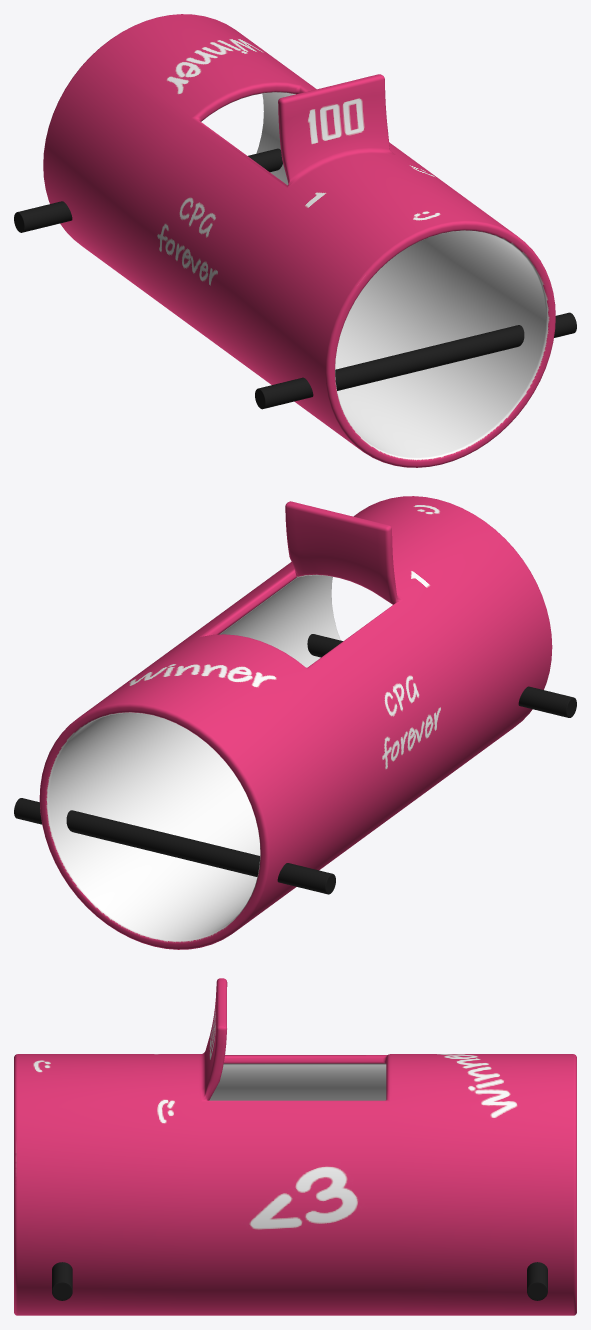
Rendered from New Pink Car.fbx.
The picture shows the model from 3 angles, top to bottom: view 1: azimuth 30°, elevation 25°; view 2: azimuth 150°, elevation 25°; view 3: azimuth 270°, elevation 25°; orthographic projection.
Parts seen in each view (by area): view 1: New Pink Car Body; view 2: New Pink Car Body; view 3: New Pink Car Body.
Boxes of the visible parts, x1,y1,x2,y2 form: New Pink Car Body: [14, 14, 576, 467]; New Pink Car Body: [14, 496, 576, 949]; New Pink Car Body: [14, 978, 576, 1315].
Size of the model in its own units: 16.15 by 15 by 25.62.
3 materials, 1 textured.
